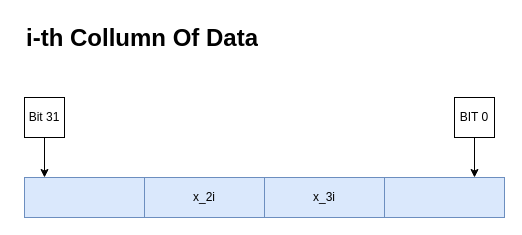
Some shapes in this 522 by 235 pixel diagram are drawn without their labels. The shapes that lost their labels are listed below. From the top down, each one's centre as x and y in pixels, then its label:
At point 84,197: "x_1i".
At point 444,197: "x_i4".
